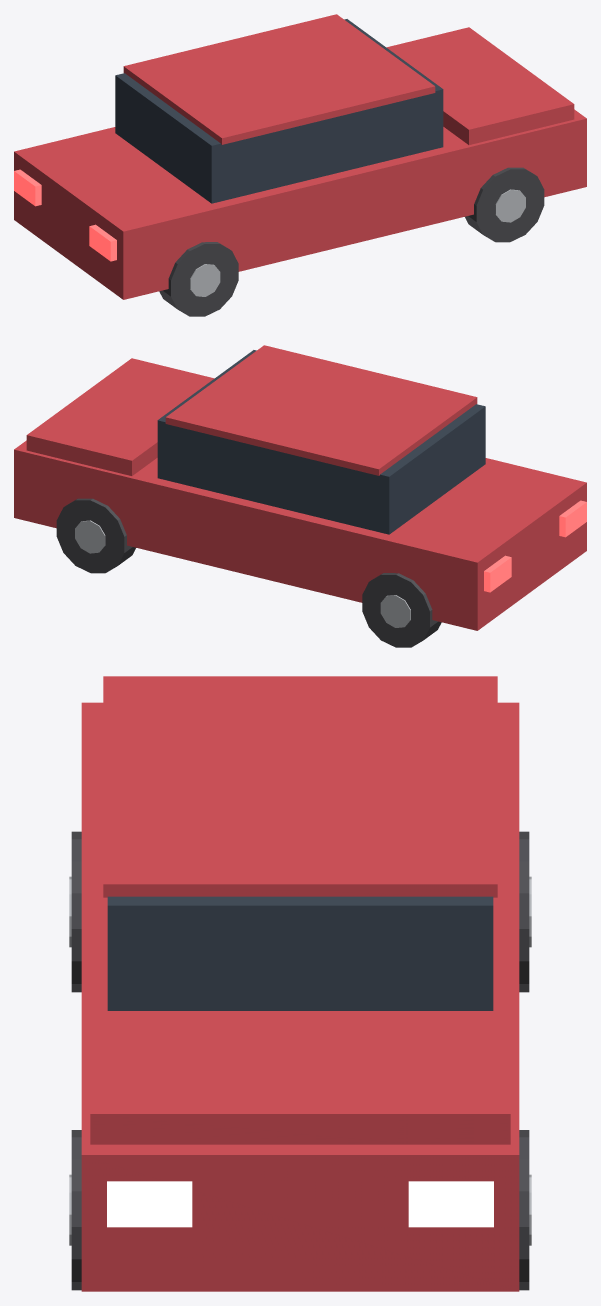
Rendered from bt-car-sedan.glb.
The picture shows the model from 3 angles, top to bottom: view 1: azimuth 30°, elevation 25°; view 2: azimuth 150°, elevation 25°; view 3: azimuth 270°, elevation 25°; orthographic projection. The views are drawn at different scales.
Parts seen in each view (by area): view 1: body, roof, cabin, hood, wheel_0_-1, wheel_1_-1, hub_0_-1, hub_1_-1, tail_-1, tail_1; view 2: body, roof, cabin, hood, wheel_0_1, wheel_1_1, hub_0_1, hub_1_1, tail_1, tail_-1; view 3: roof, body, hood, cabin, head_1, head_-1, wheel_1_1, wheel_1_-1, wheel_0_1, wheel_0_-1.
Boxes of the visible parts, <box> form: body: <box>14,109,586,299</box>; roof: <box>123,14,435,144</box>; cabin: <box>115,19,443,203</box>; hood: <box>386,27,574,144</box>; wheel_0_-1: <box>465,167,544,242</box>; wheel_1_-1: <box>159,242,238,316</box>; hub_0_-1: <box>495,189,525,222</box>; hub_1_-1: <box>190,264,220,296</box>; tail_-1: <box>89,224,116,261</box>; tail_1: <box>14,169,41,206</box>; body: <box>14,440,586,630</box>; roof: <box>165,345,477,475</box>; cabin: <box>157,350,485,534</box>; hood: <box>26,358,214,475</box>; wheel_0_1: <box>56,498,135,573</box>; wheel_1_1: <box>362,573,441,647</box>; hub_0_1: <box>75,520,105,553</box>; hub_1_1: <box>380,595,410,627</box>; tail_1: <box>484,555,511,592</box>; tail_-1: <box>559,500,586,537</box>; roof: <box>103,676,497,897</box>; body: <box>81,702,519,1291</box>; hood: <box>90,1011,510,1144</box>; cabin: <box>107,896,493,1010</box>; head_1: <box>408,1181,493,1227</box>; head_-1: <box>107,1181,192,1227</box>; wheel_1_1: <box>519,831,529,992</box>; wheel_1_-1: <box>71,831,81,992</box>; wheel_0_1: <box>519,1130,529,1290</box>; wheel_0_-1: <box>71,1130,81,1290</box>.
Bounding box in the file's own units: 4.52 × 1.51 × 1.9.
